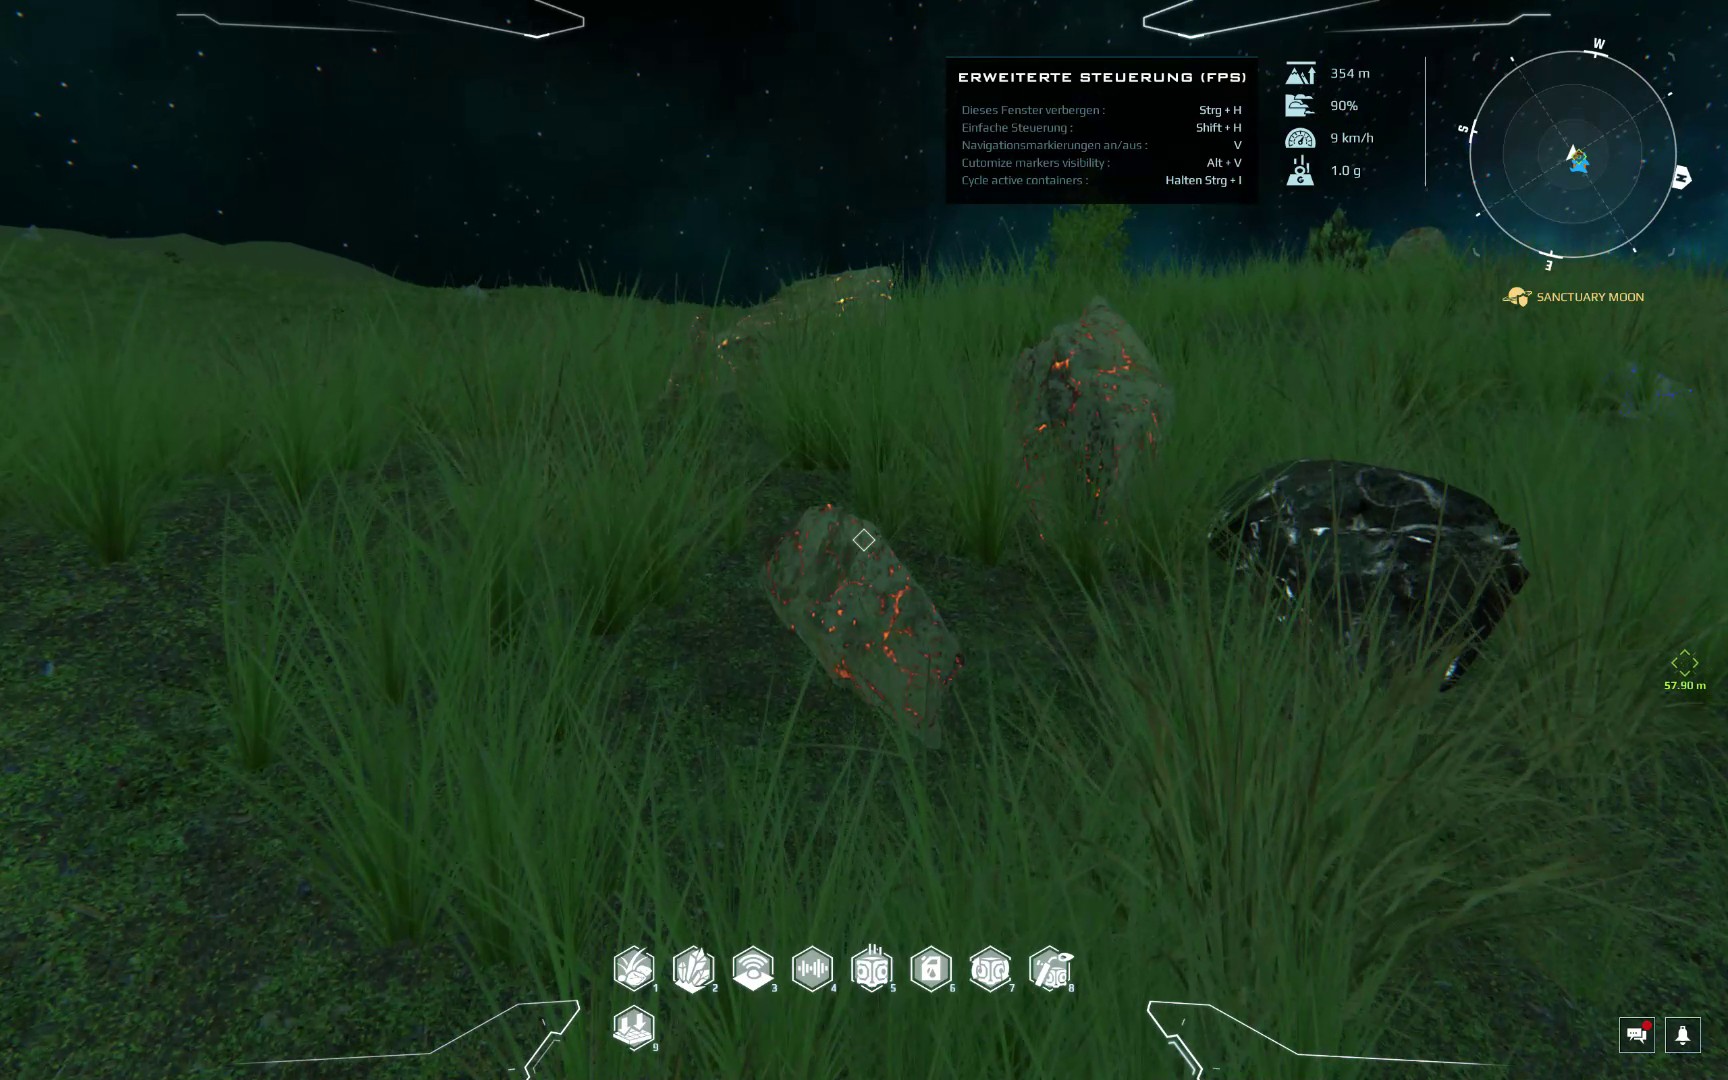Ore: (1205, 460, 1523, 698), (754, 503, 962, 739), (1005, 304, 1168, 542), (712, 266, 899, 386), (652, 309, 712, 409)
